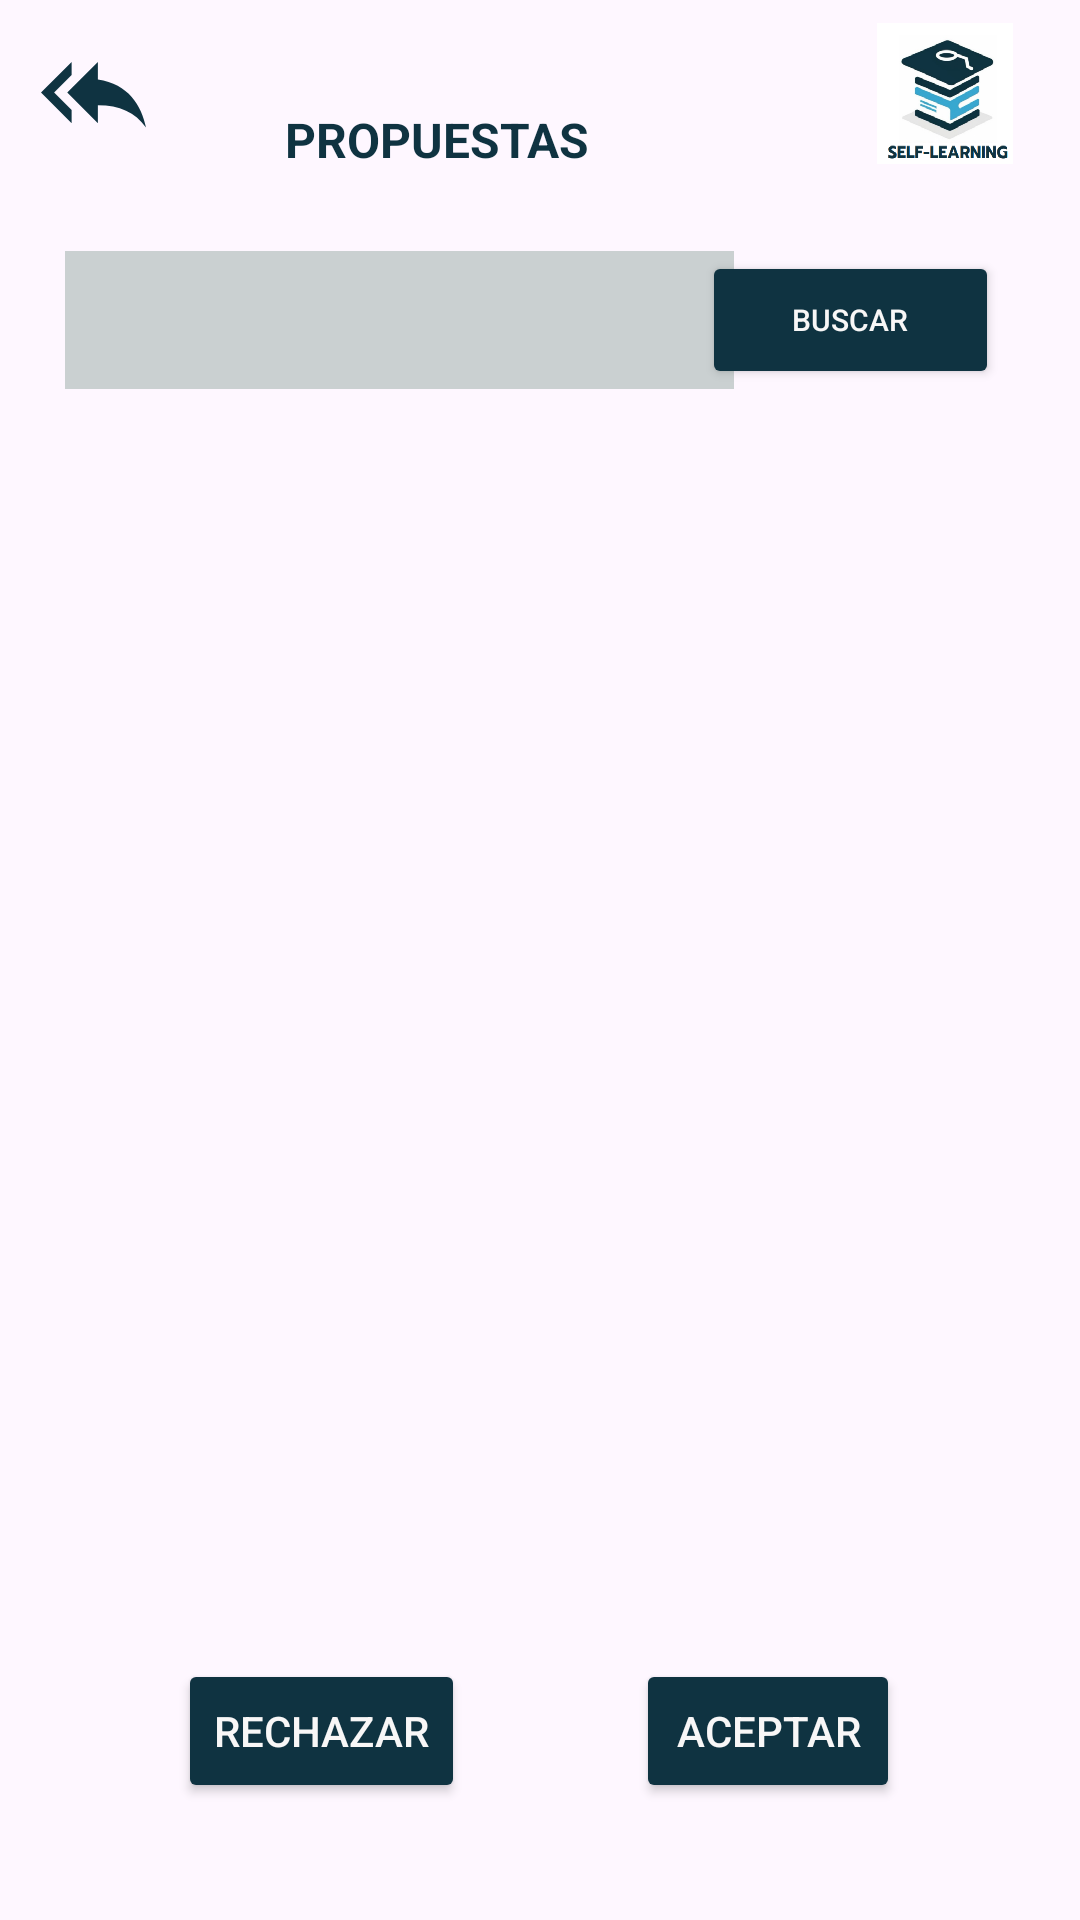

Screen size 1080*1920. Icon name, then its center in pixels as [x,y]:
backimage: [93,94]
